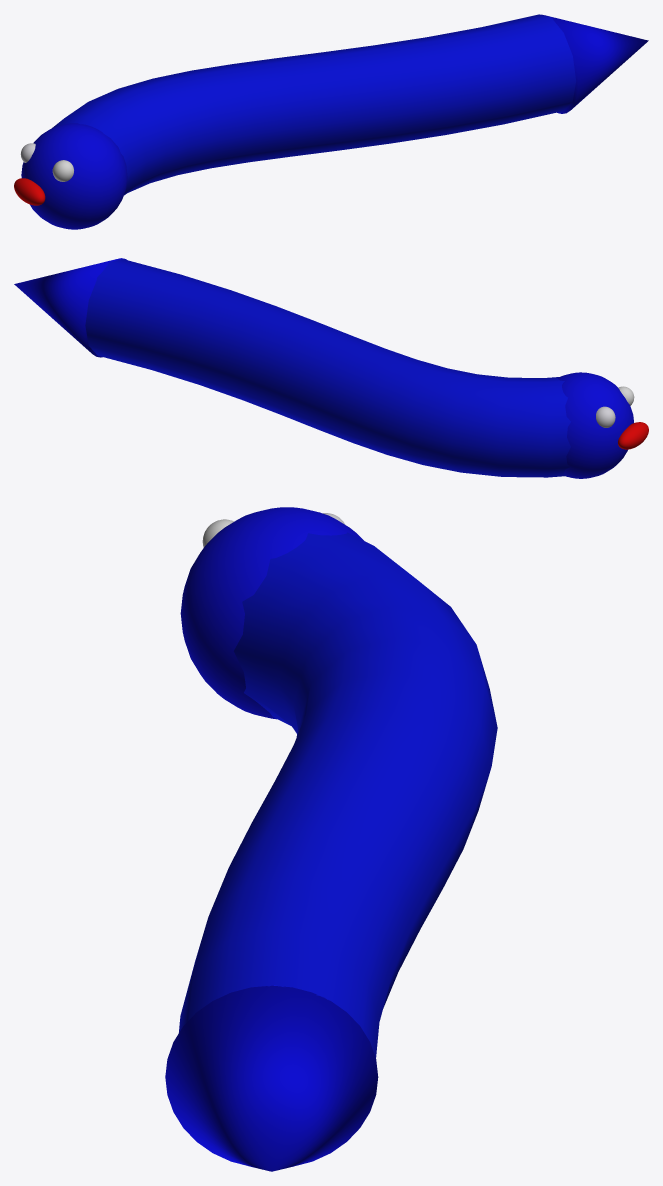
File: SnakebBlue.obj
3 renders of one model, top to bottom at view 1: azimuth 30°, elevation 25°; view 2: azimuth 150°, elevation 25°; view 3: azimuth 270°, elevation 25°, orthographic. The views are drawn at different scales.
Visible parts, largest first — view 1: BézierCurve, Sphere, Cone, Sphere.003, Sphere.001; view 2: BézierCurve, Sphere, Cone, Sphere.003, Sphere.002; view 3: BézierCurve, Cone, Sphere.
Boxes of the visible parts, x1=… form: BézierCurve: x1=52, y1=14, x2=575, y2=195; Sphere: x1=21, y1=123, x2=127, y2=229; Cone: x1=541, y1=14, x2=648, y2=113; Sphere.003: x1=14, y1=178, x2=45, y2=205; Sphere.001: x1=52, y1=160, x2=73, y2=181; BézierCurve: x1=85, y1=259, x2=570, y2=477; Sphere: x1=558, y1=372, x2=633, y2=478; Cone: x1=14, y1=258, x2=126, y2=357; Sphere.003: x1=618, y1=422, x2=648, y2=449; Sphere.002: x1=596, y1=406, x2=615, y2=427; BézierCurve: x1=179, y1=532, x2=497, y2=1057; Cone: x1=165, y1=985, x2=378, y2=1171; Sphere: x1=180, y1=507, x2=363, y2=719.
Bounding box in the file's own units: 2.62 × 0.384 × 0.5994.
